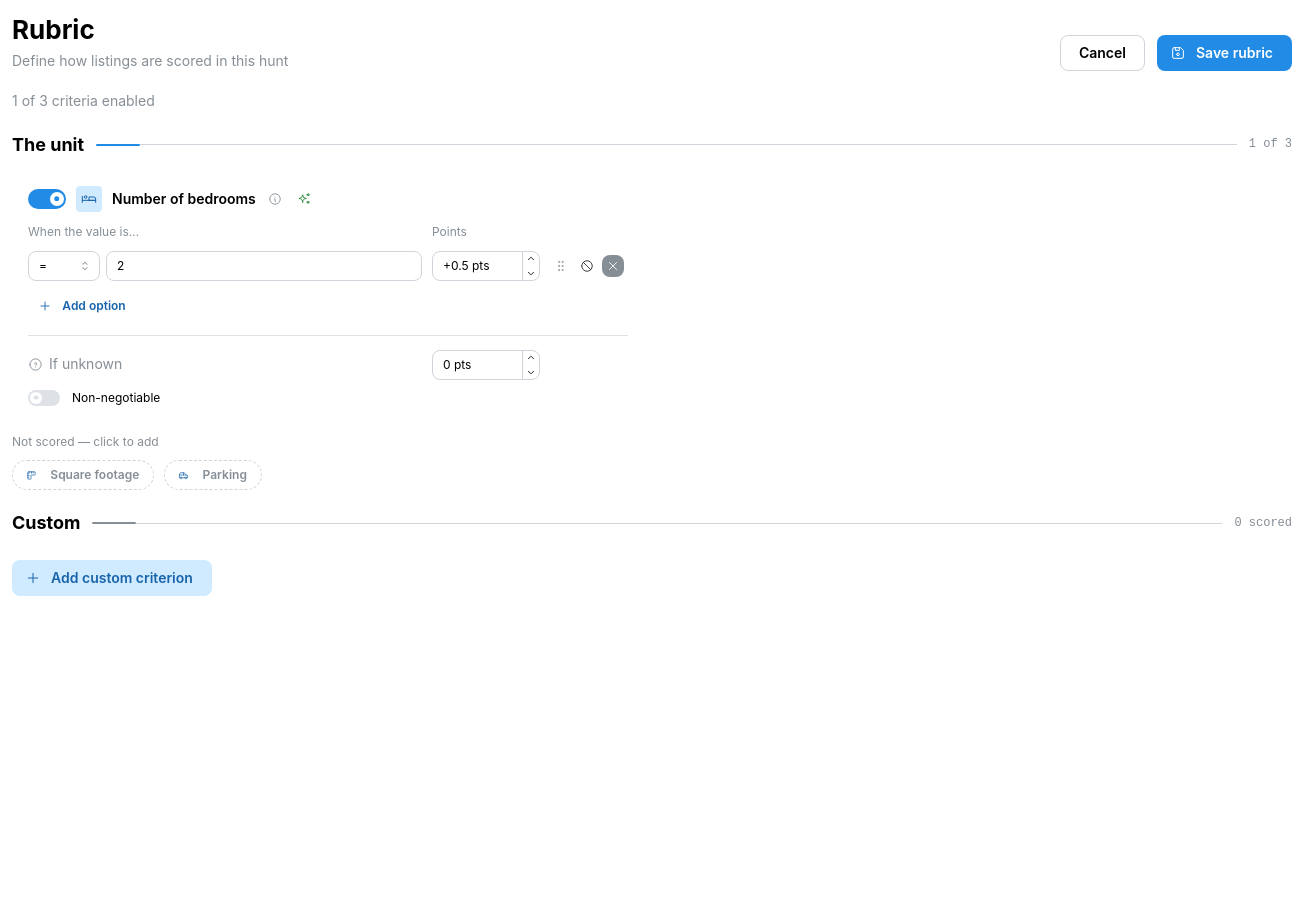
it: RubricEditor › counts scored criteria per category and overall
Check: the text "1 of 3 criteria enabled" is shown, box 12,92 -> 155,109
Check: the text "1 of 3" is shown, box 1249,136 -> 1292,153
Click the button "Parking". click: (213,475)
box: 164,460 -> 262,490
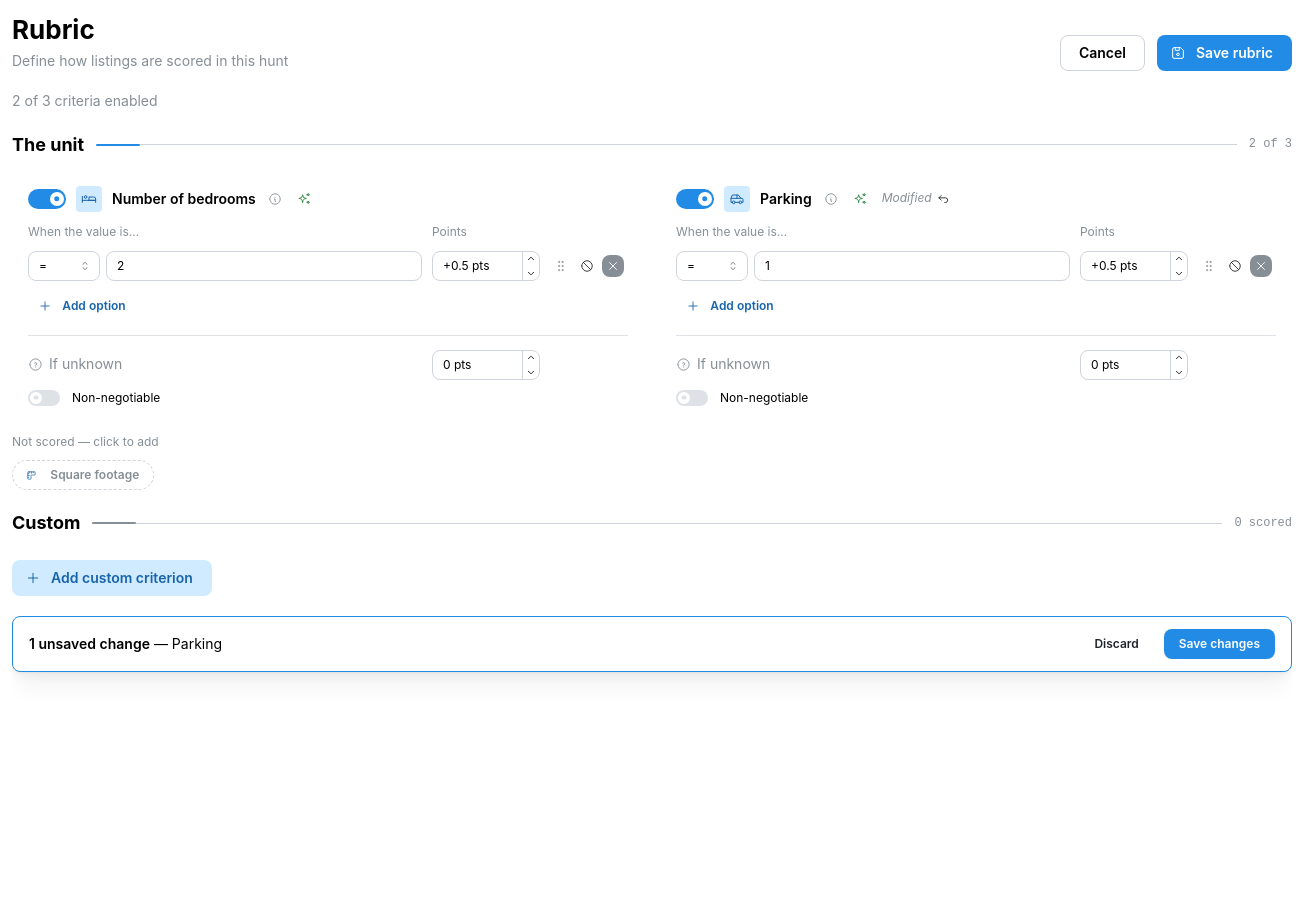
Check: the text "2 of 3 criteria enabled" is shown, box 12,92 -> 158,109
